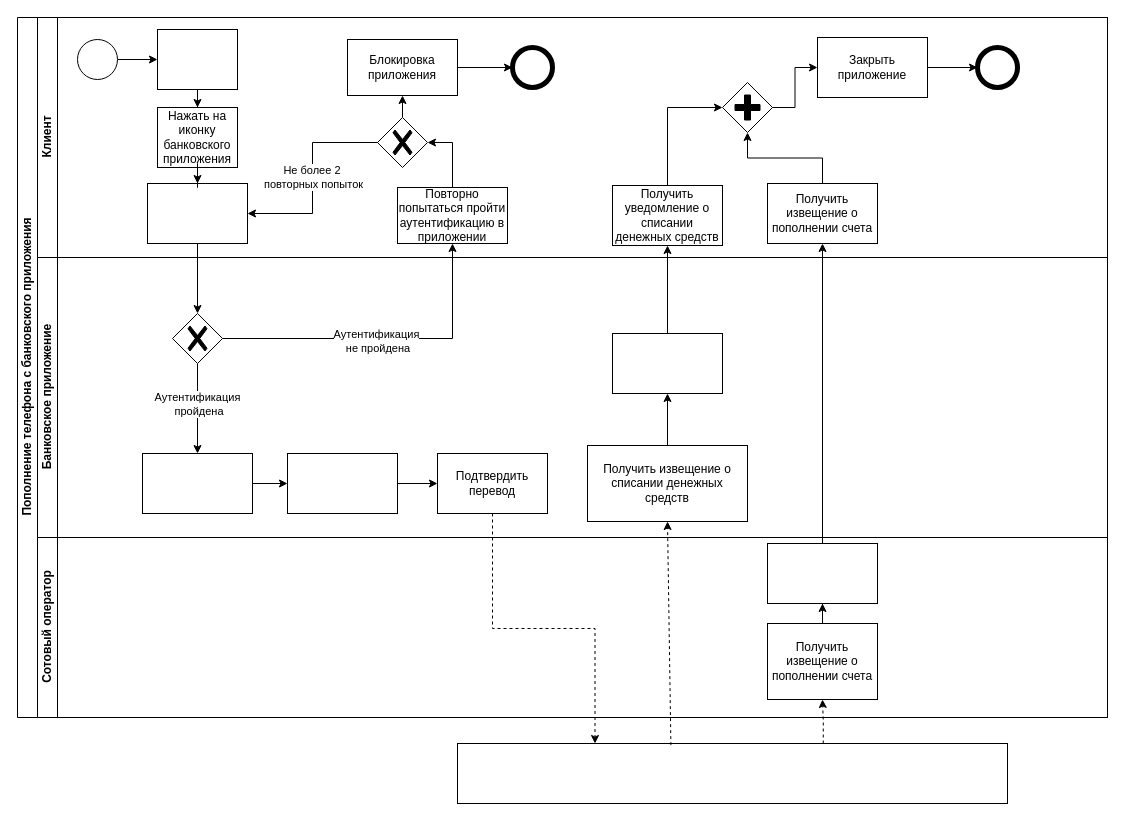
This 1125x821 diagram has some shape labels left out. The shapes that lost their labels are listed below. From the top down, each one's centre as x and y in pixels, then its label:
pixel 197 59: Включить телефон
pixel 197 213: Попытка пройти аутентификацию в приложении
pixel 667 363: Уведомить пользователя о списании денежных средств
pixel 197 483: Открыть вкладку "Переводы"
pixel 342 483: Заполнить форму для перевода
pixel 822 573: Отправить сообщение пользователю о пополнении счета
pixel 732 773: Взаимодействие с платежными сервисами
